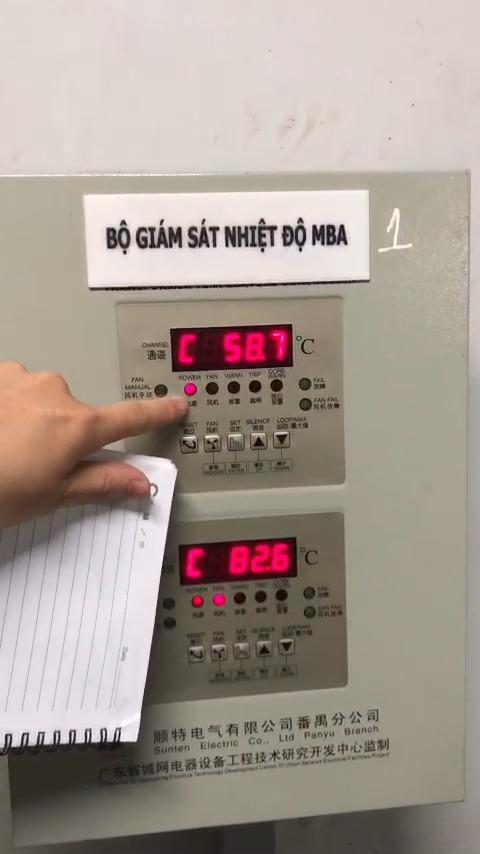led: (247, 380, 262, 394), (183, 382, 198, 396), (303, 605, 317, 620), (227, 381, 241, 395), (205, 381, 219, 395), (154, 384, 168, 398), (233, 592, 247, 606), (161, 597, 175, 611), (269, 379, 284, 392), (298, 377, 312, 390), (299, 398, 312, 412), (303, 587, 316, 601), (275, 589, 289, 602), (254, 590, 267, 604), (213, 594, 227, 607), (191, 595, 204, 609), (162, 617, 176, 630)
